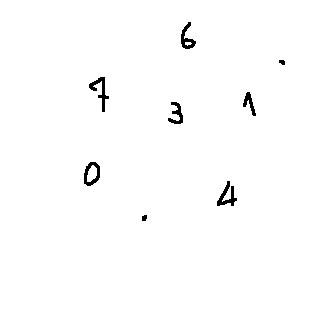.: (275, 50, 292, 77), (131, 209, 155, 223)
0: (75, 158, 113, 195)
1: (230, 84, 268, 126)
3: (158, 95, 195, 137)
4: (209, 170, 244, 214)
6: (175, 21, 206, 58)
7: (83, 73, 120, 114)
